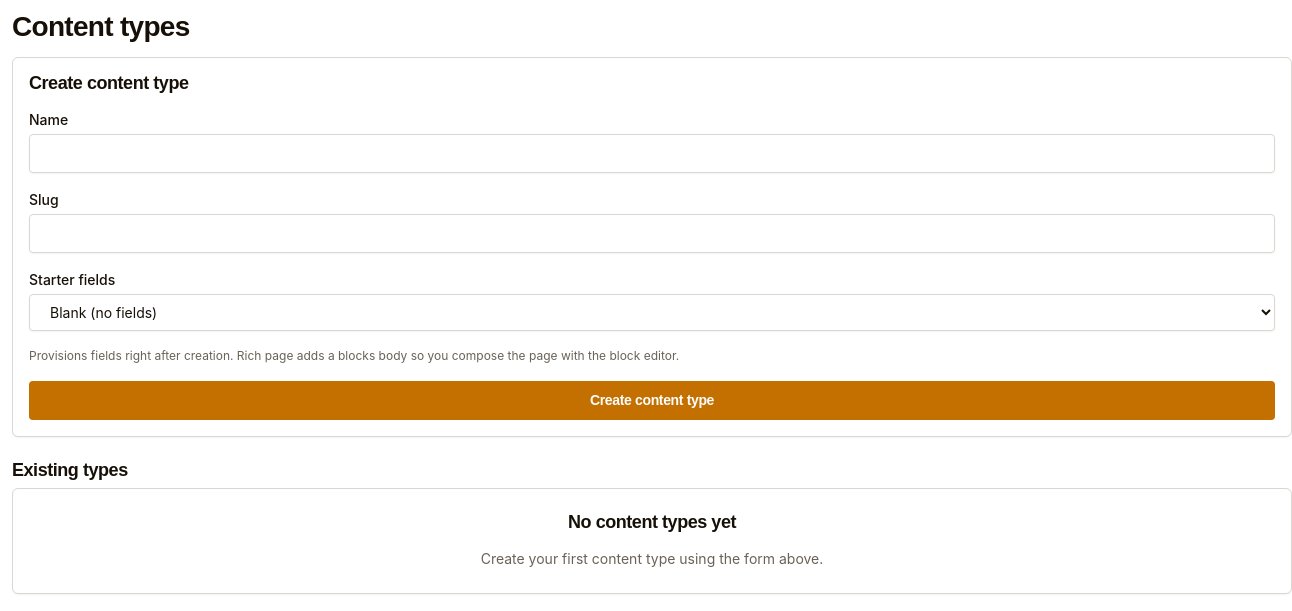
EntityTypesPage › creates an entity type and lists it
Check: the heading "No content types yet" is shown, box [568,513,736,532]
Type "Article" into the field labelled "Name" at (652, 154), box [29,134,1275,173]
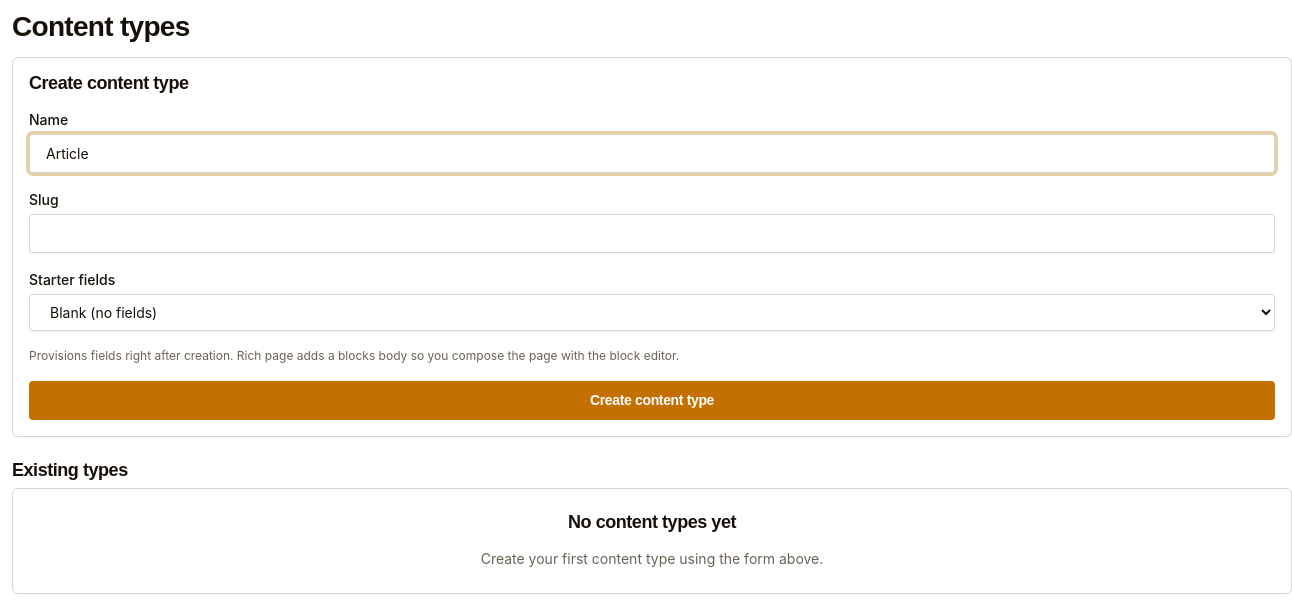
Type "article" into the field labelled "Slug" at (652, 234), box [29,214,1275,253]
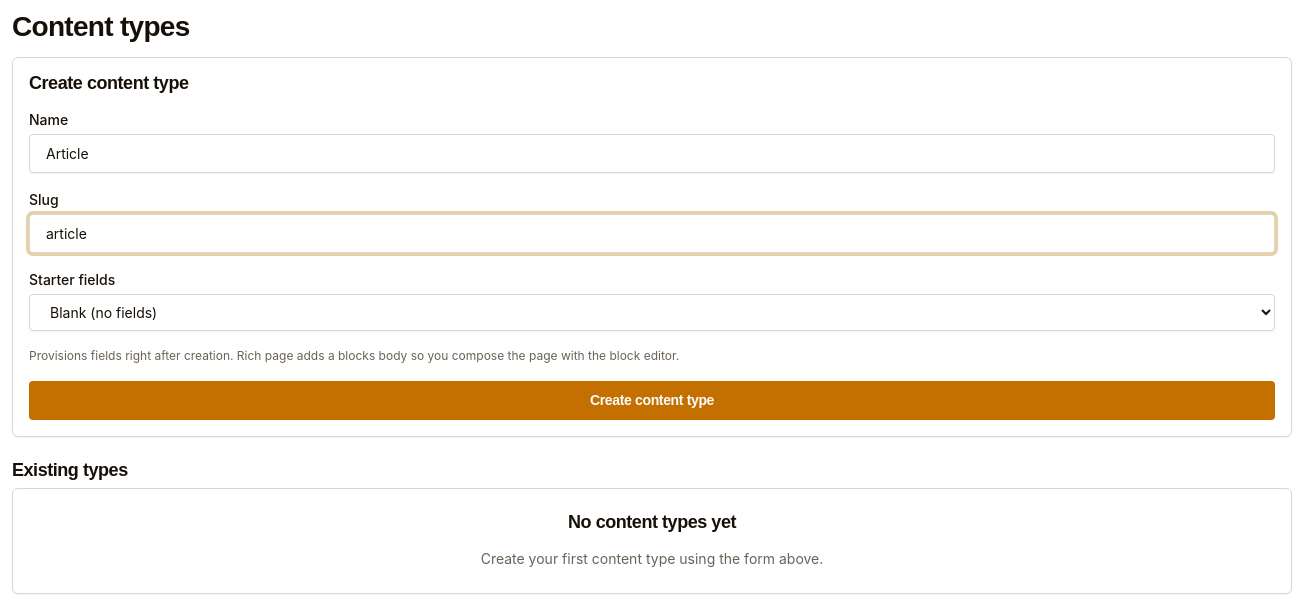
Click the button "Create content type" at (652, 401), box [29,381,1275,420]
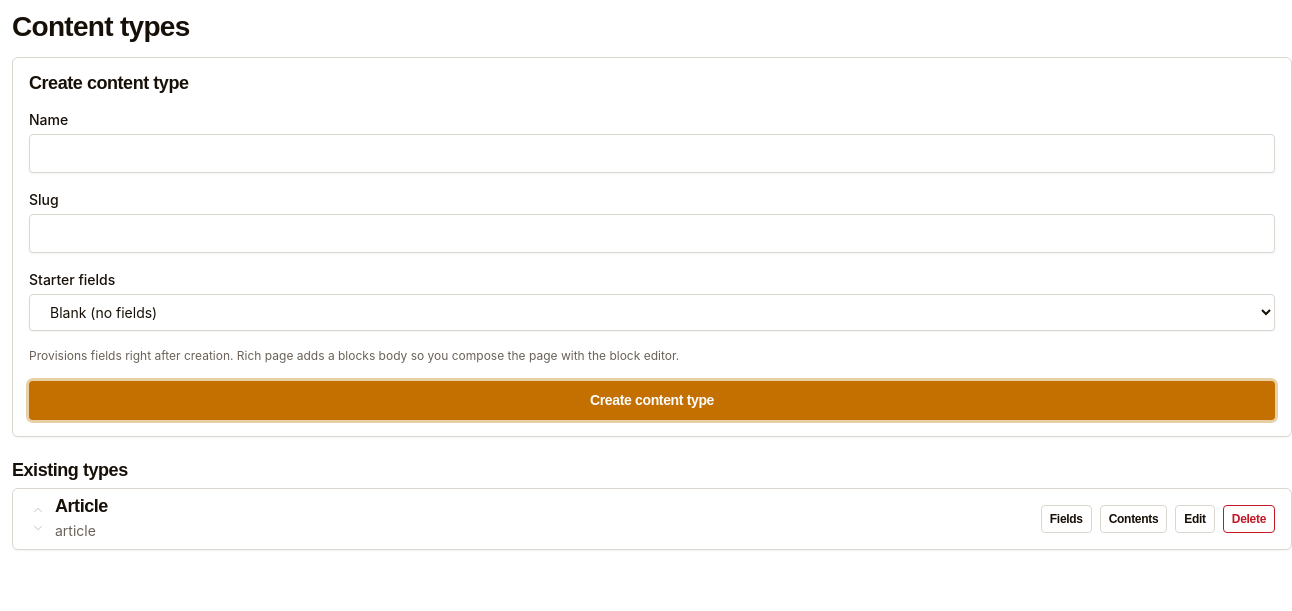
Check: the text "Article" is shown, box [55,497,108,516]
Check: the text "article" is shown, box [55,522,96,539]
